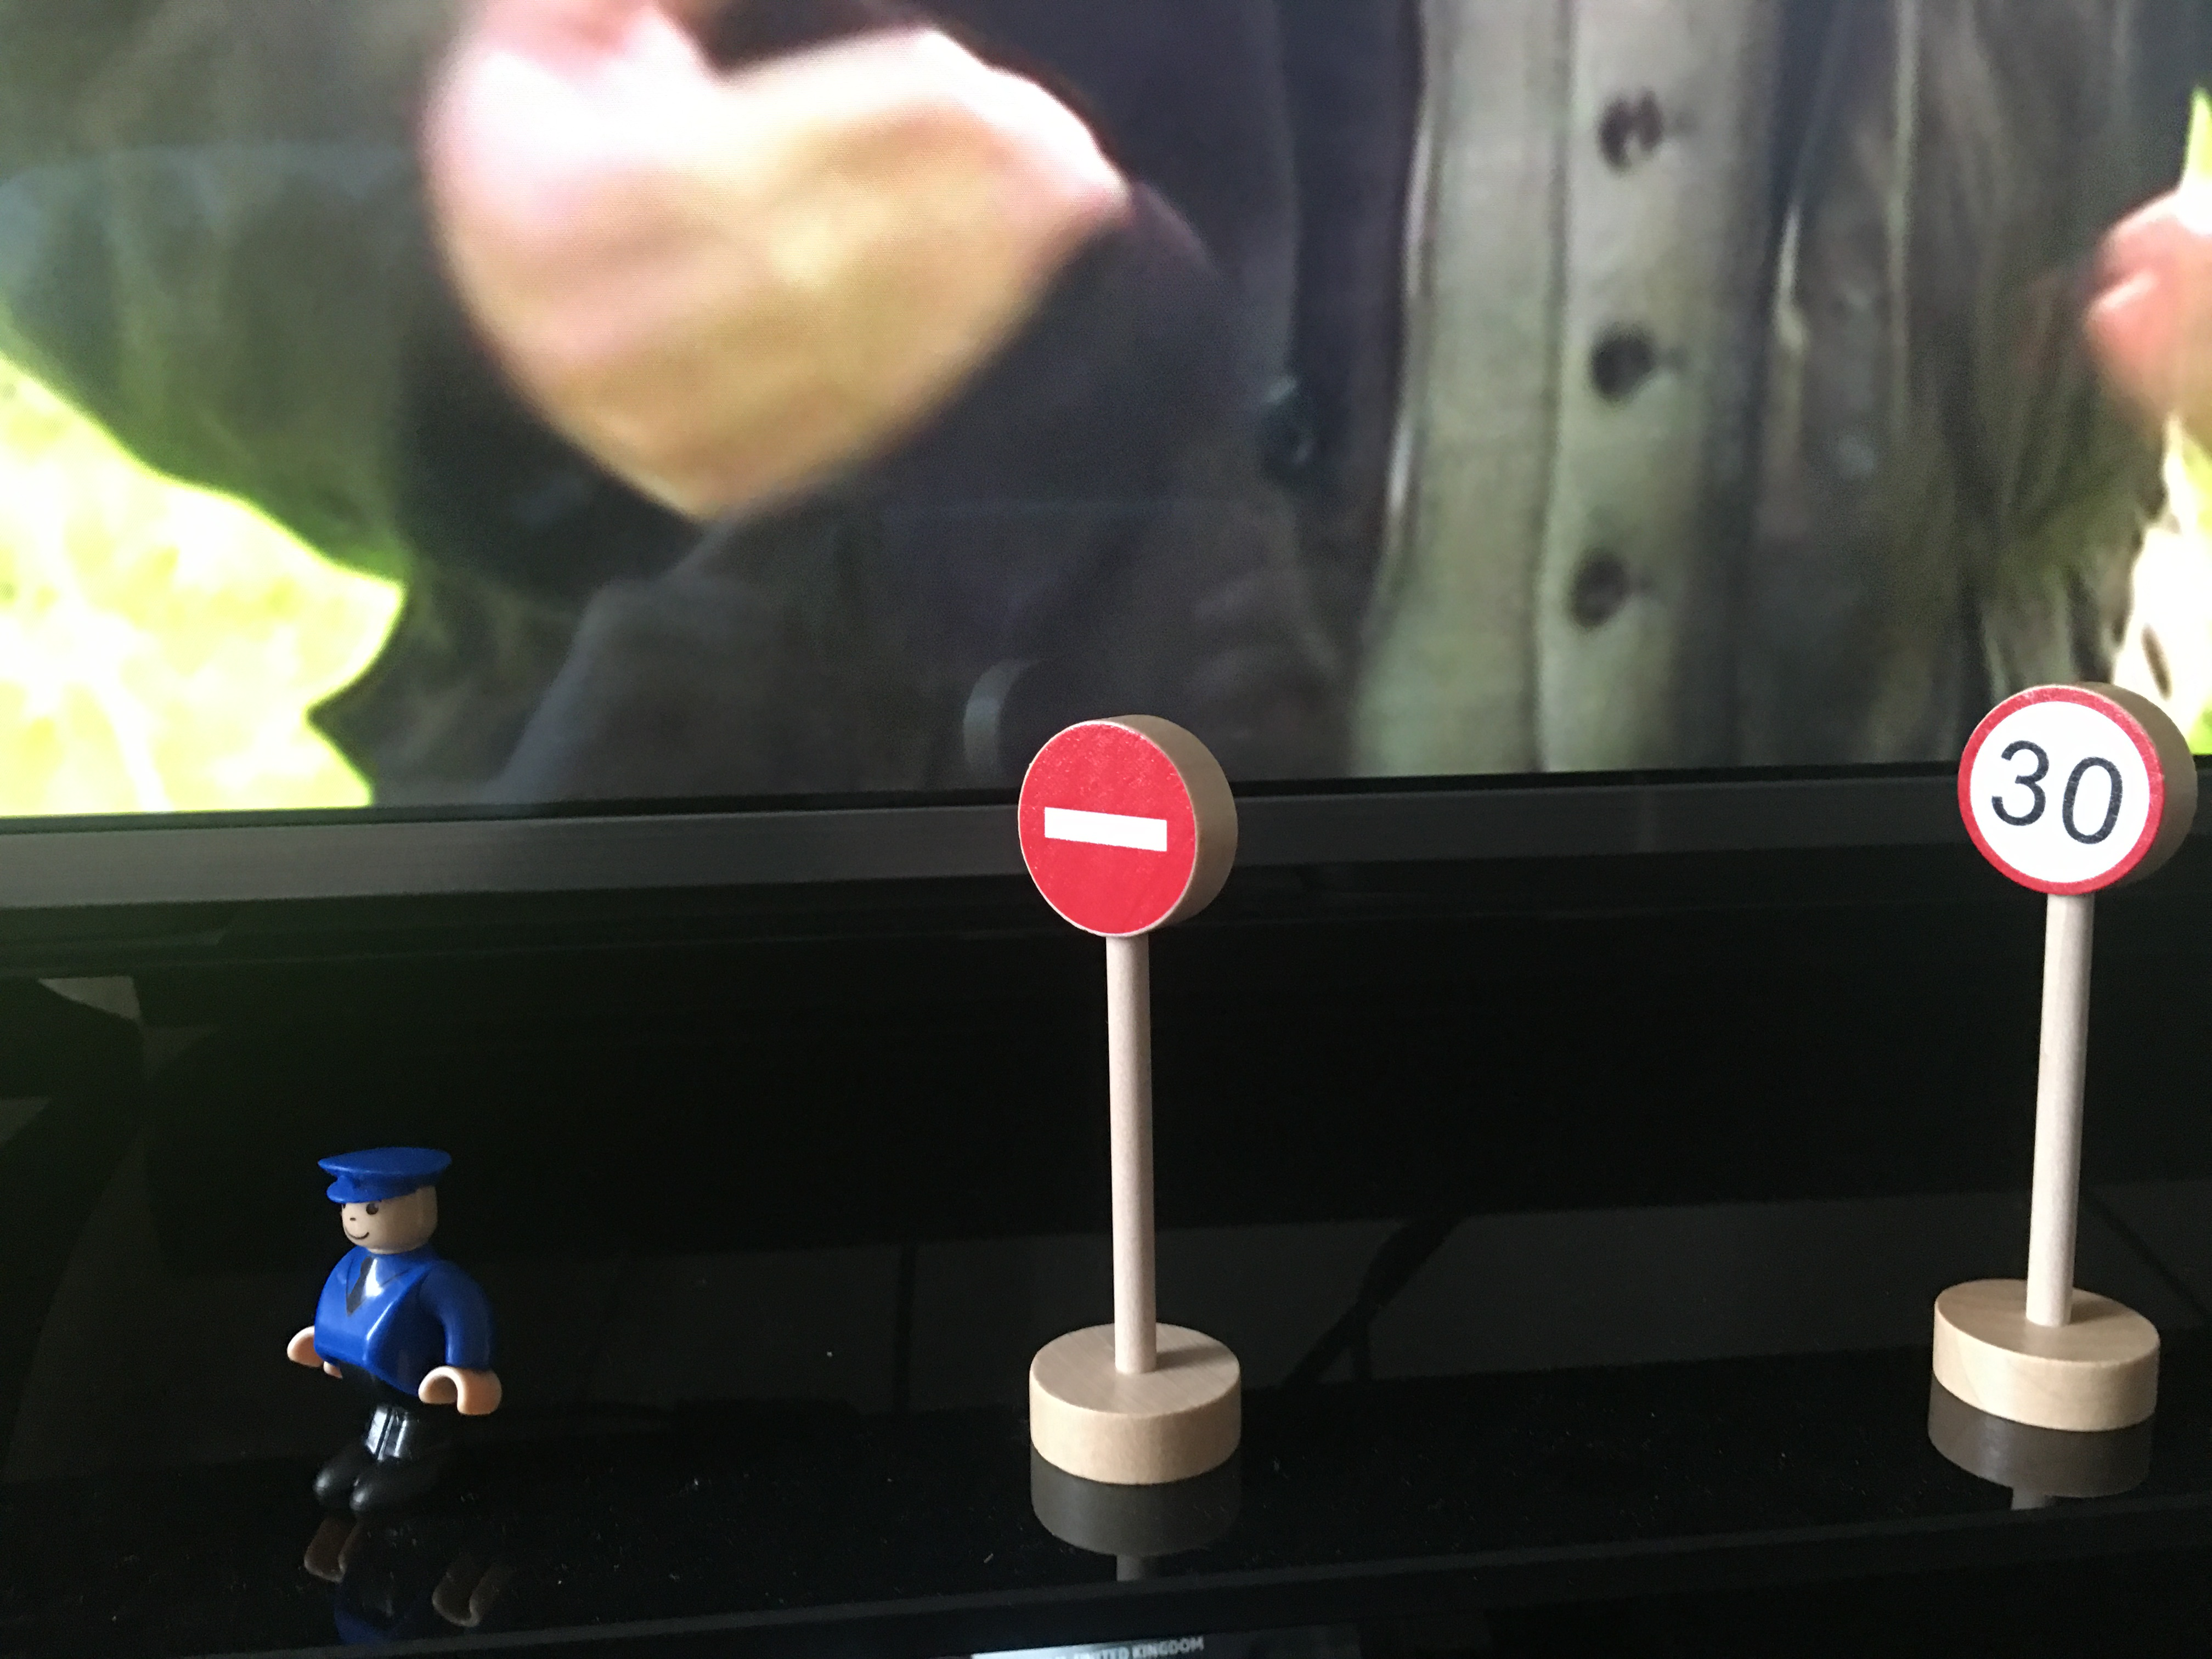Traffic_Sign_30: (1950, 682, 2169, 891)
Traffic_Sign_No_Entry: (1014, 711, 1211, 943)
person: (273, 1128, 515, 1522)
